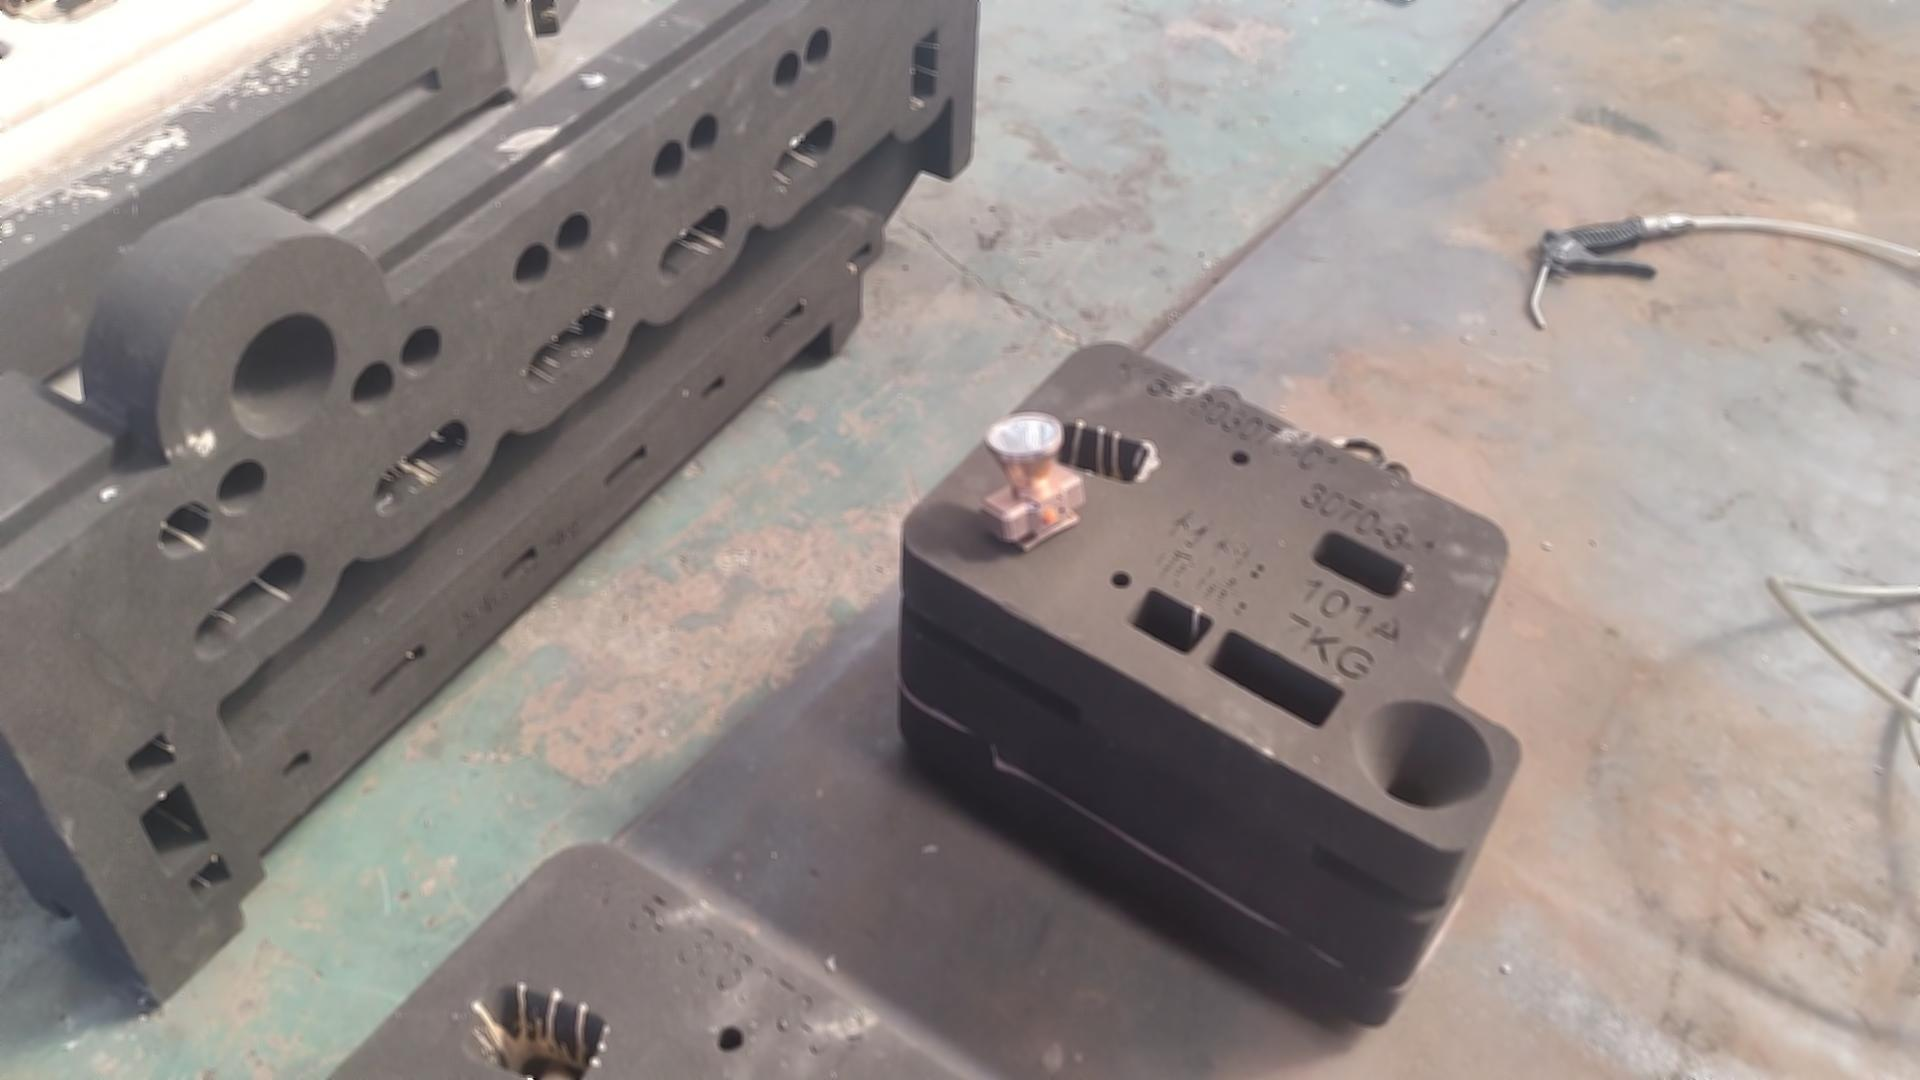pouring hole: (1353, 700, 1493, 810), (228, 313, 338, 440)
